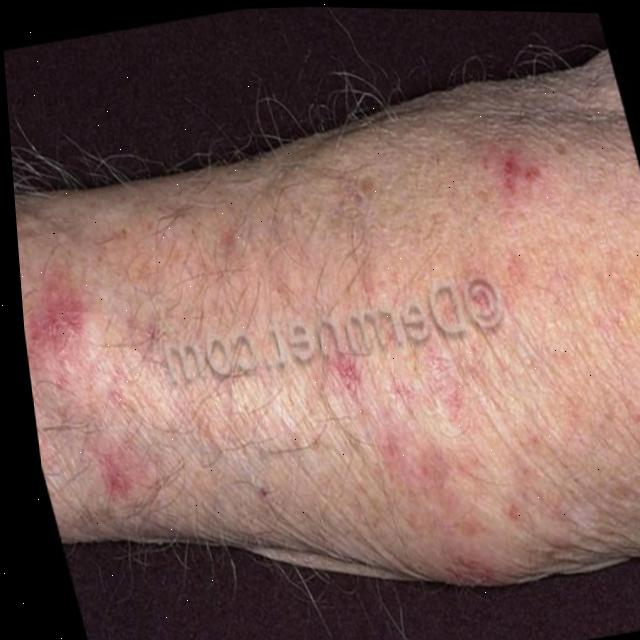Eczema: (9, 122, 600, 595)
